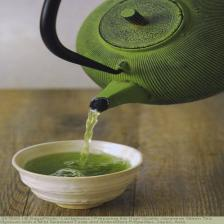green: (40, 0, 223, 165), (23, 152, 131, 177)
